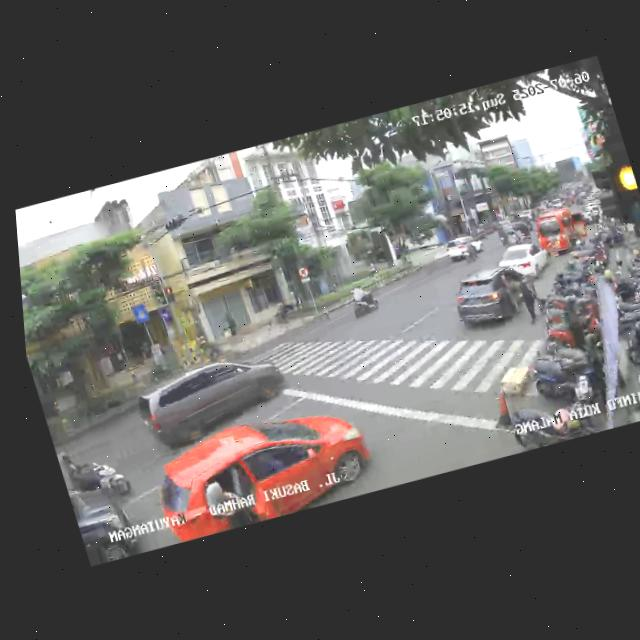car: (141, 394, 383, 544), (129, 345, 300, 456), (67, 476, 146, 566), (447, 262, 535, 339), (532, 202, 596, 260), (493, 237, 554, 286), (440, 231, 486, 262)
motorcycle: (58, 438, 137, 509), (342, 279, 383, 321), (460, 239, 482, 264), (517, 222, 535, 242)
person: (515, 276, 544, 326)
